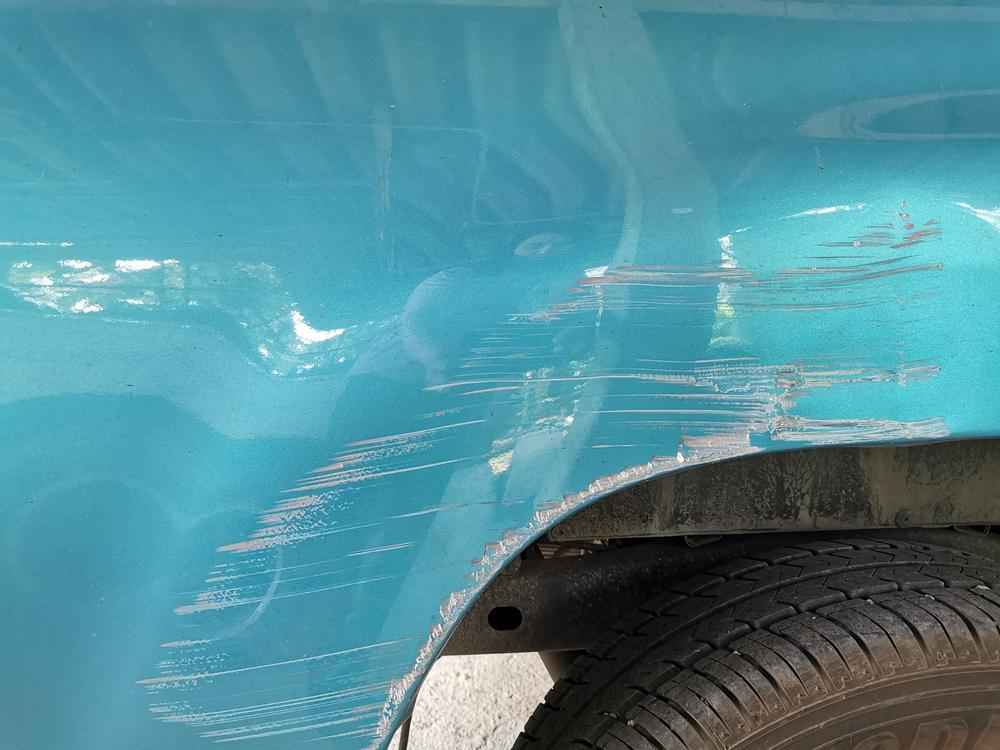scratch: (130, 201, 953, 750)
